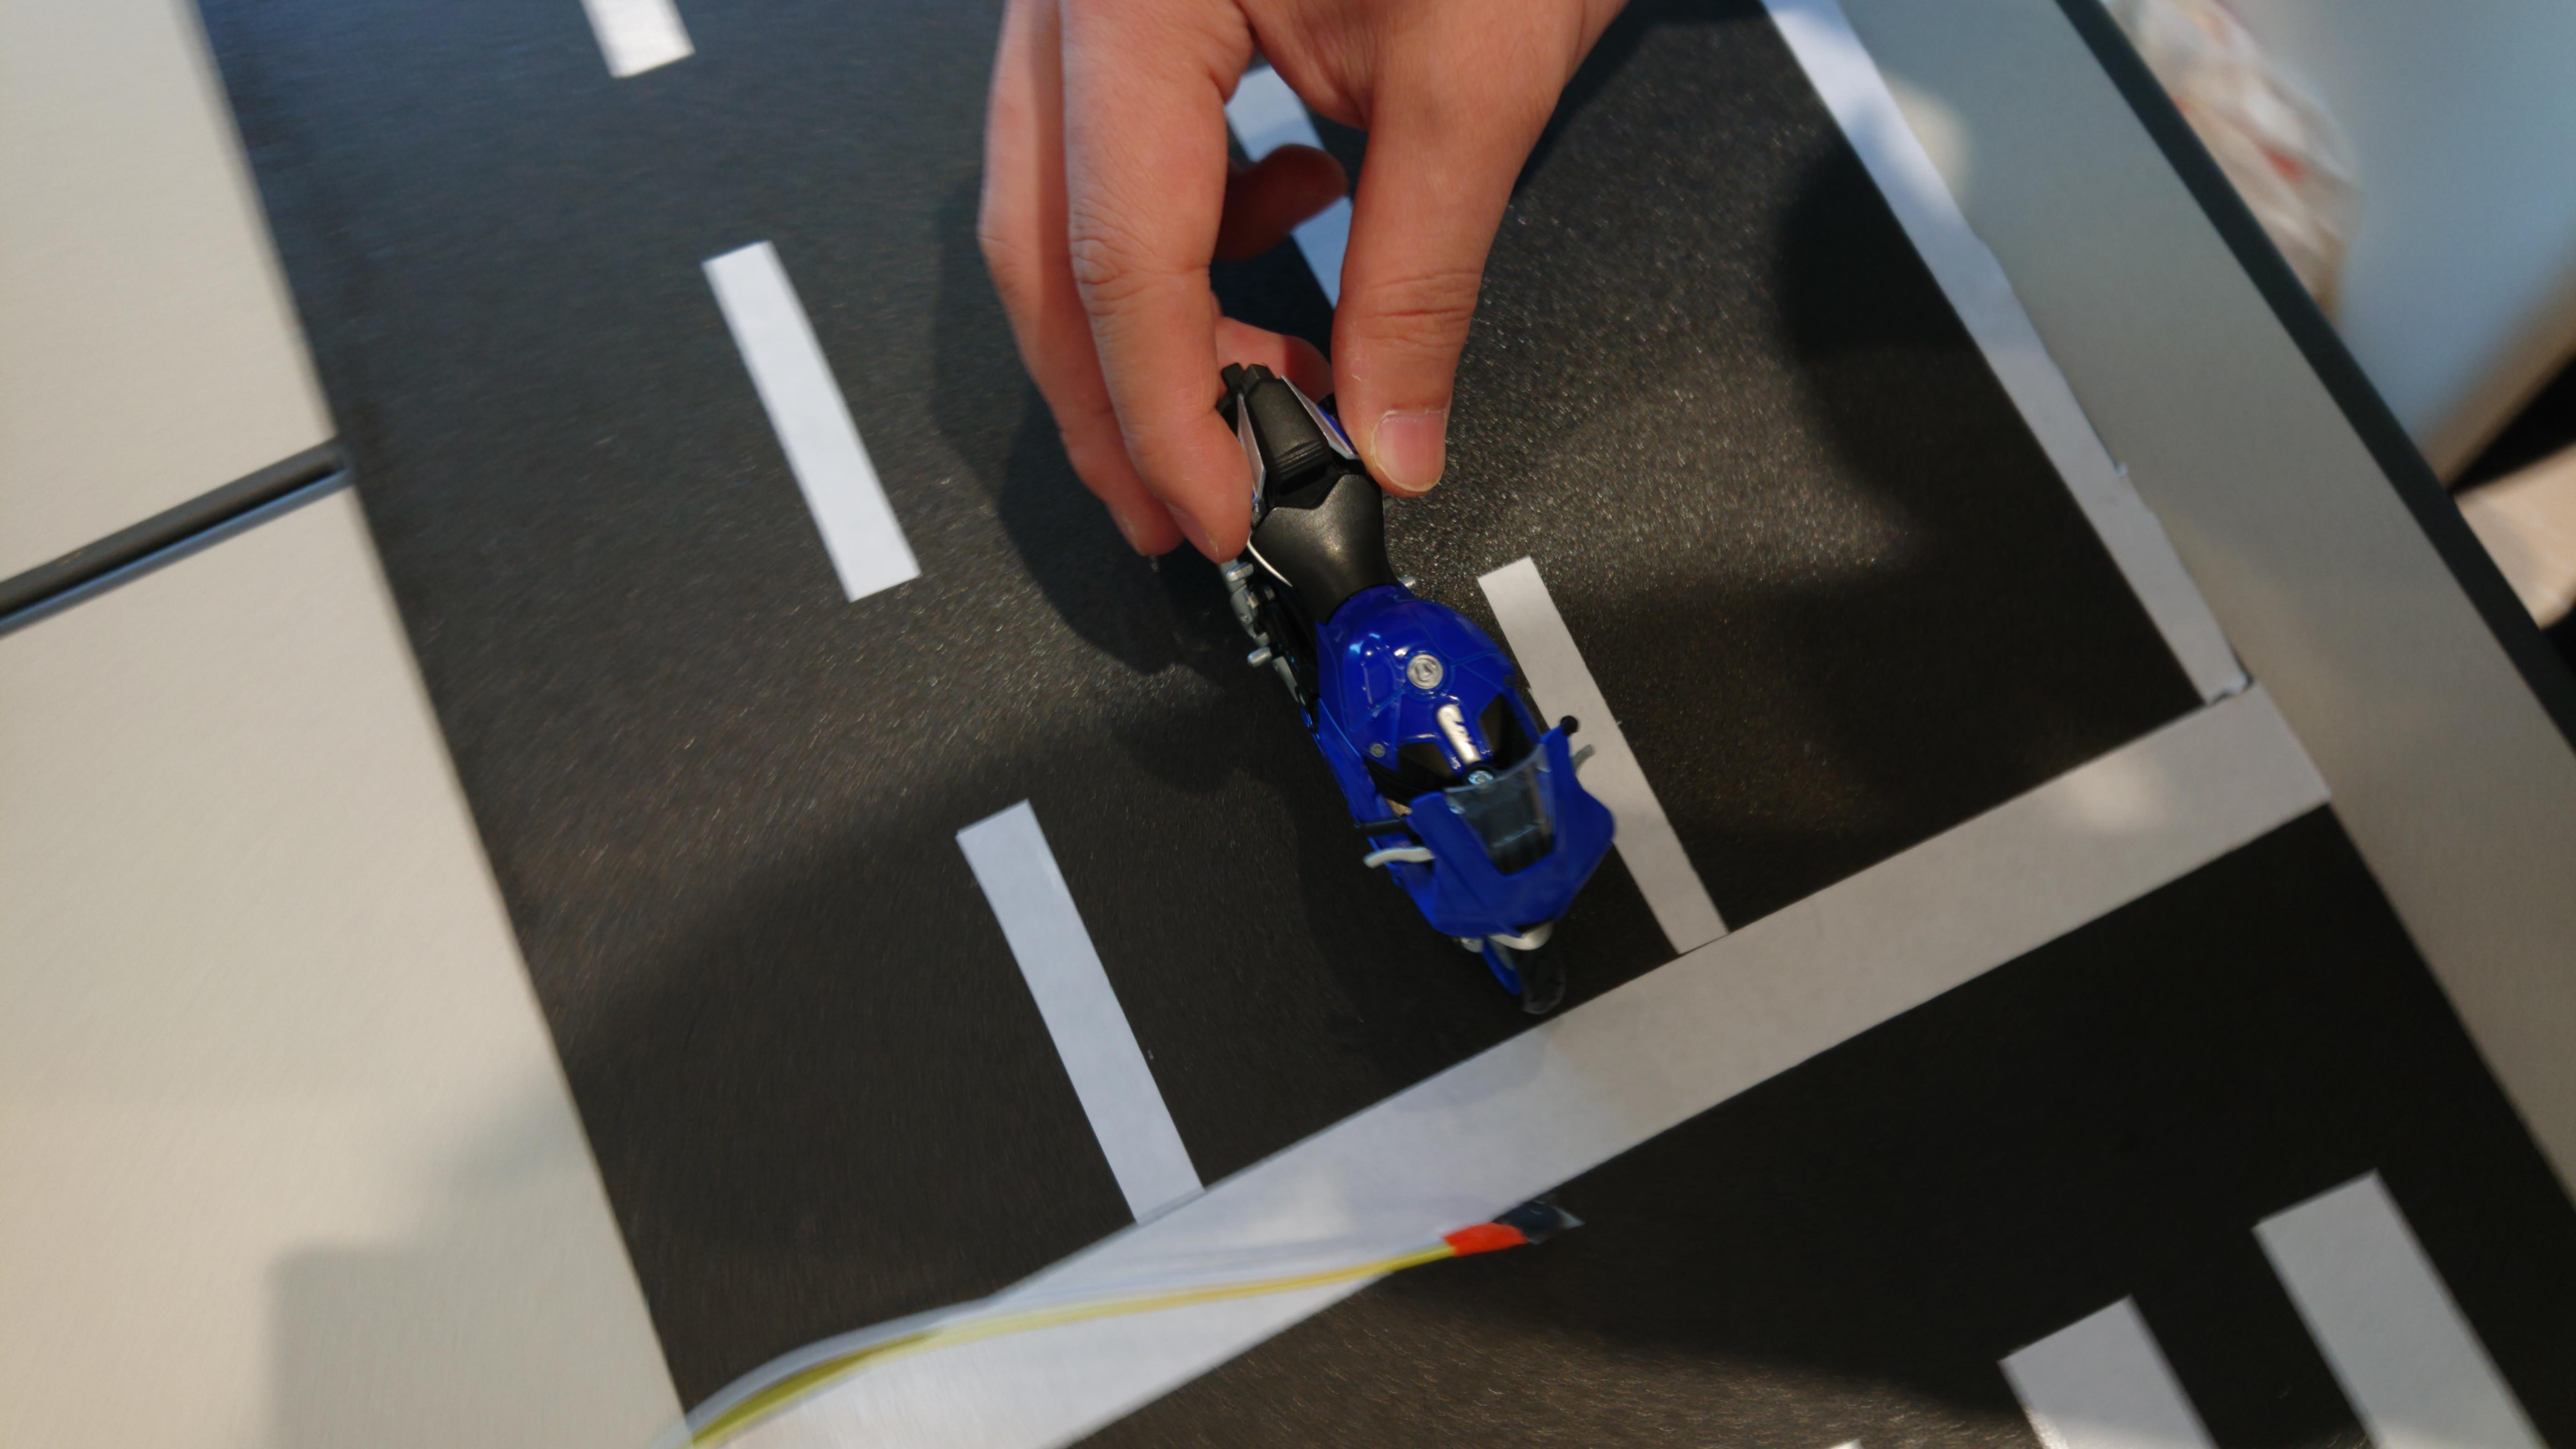Motorcycle: (1168, 350, 1654, 1017)
